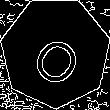O_NE: (23, 19, 87, 86)
